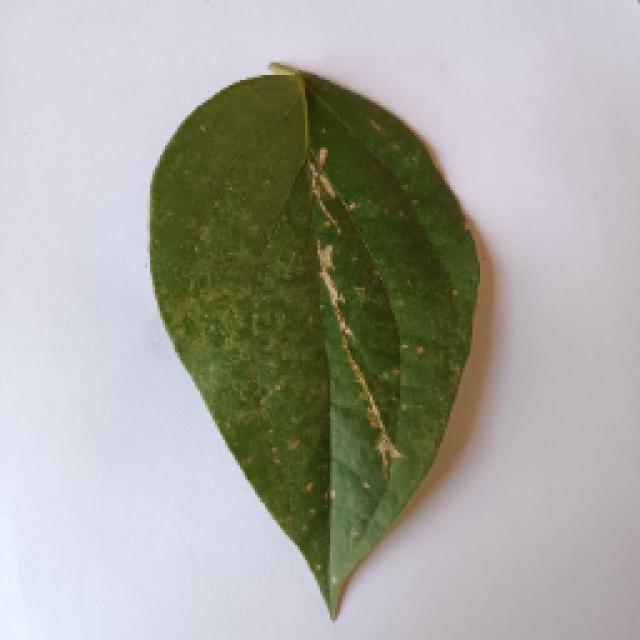pollu-disease: (142, 65, 480, 620)
